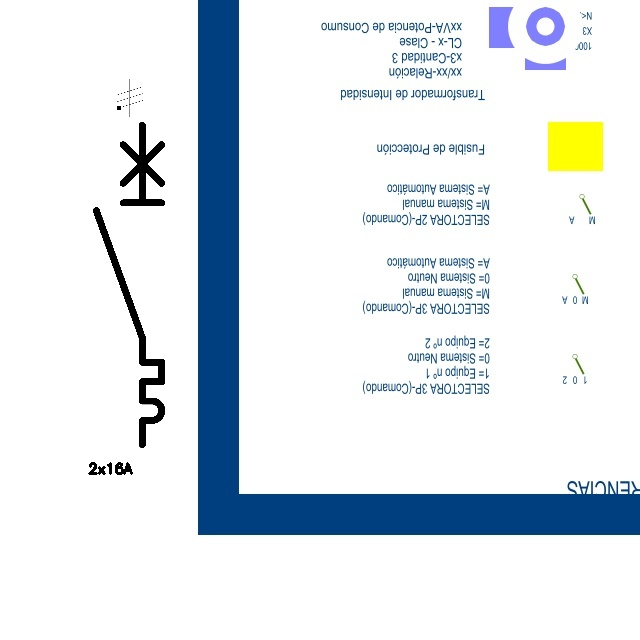interruptor_termomagnetico: (88, 117, 170, 453)
